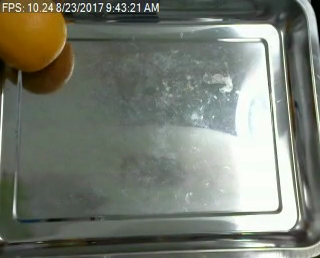Orange: (1, 1, 68, 72)
